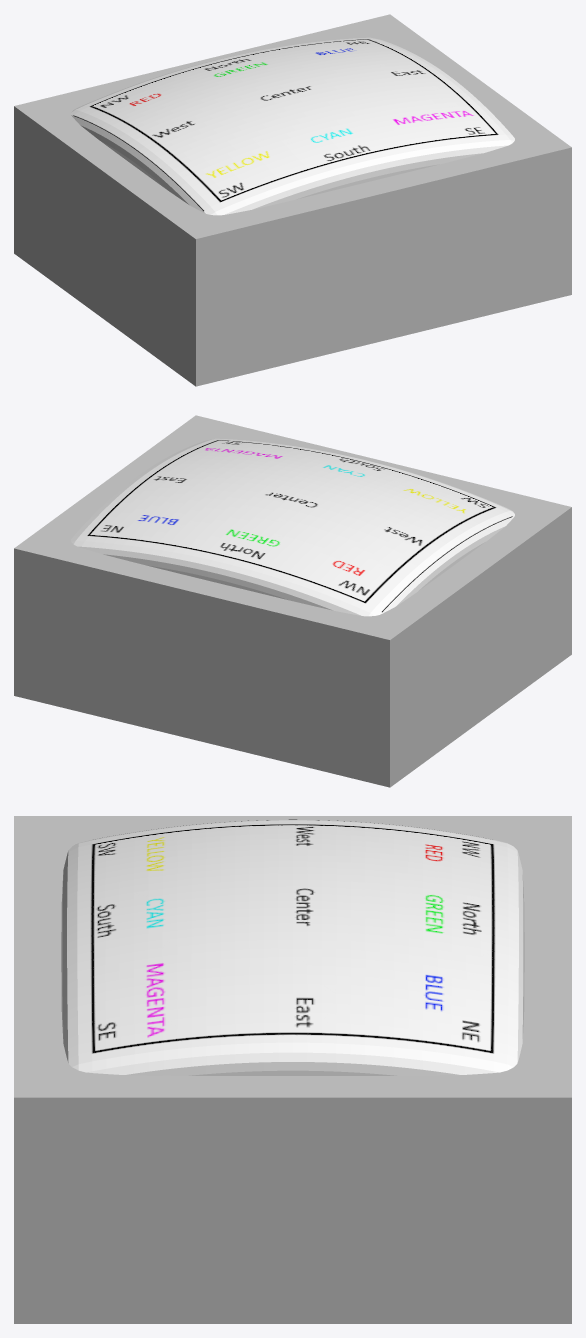
Rendered from screen.obj.
The picture shows the model from 3 angles, top to bottom: view 1: azimuth 30°, elevation 25°; view 2: azimuth 150°, elevation 25°; view 3: azimuth 270°, elevation 25°; orthographic projection. The views are drawn at different scales.
Parts seen in each view (by area): view 1: Cube_Cube.002, Plane_Plane.001; view 2: Cube_Cube.002, Plane_Plane.001; view 3: Cube_Cube.002, Plane_Plane.001.
Part boxes in pixels (<box>): Cube_Cube.002: <box>14,14,571,386</box>; Plane_Plane.001: <box>71,37,514,215</box>; Cube_Cube.002: <box>14,415,571,787</box>; Plane_Plane.001: <box>71,438,514,616</box>; Cube_Cube.002: <box>14,816,571,1323</box>; Plane_Plane.001: <box>61,819,524,1075</box>.
Size of the model in its own units: 0.431 by 0.1962 by 0.3609.
